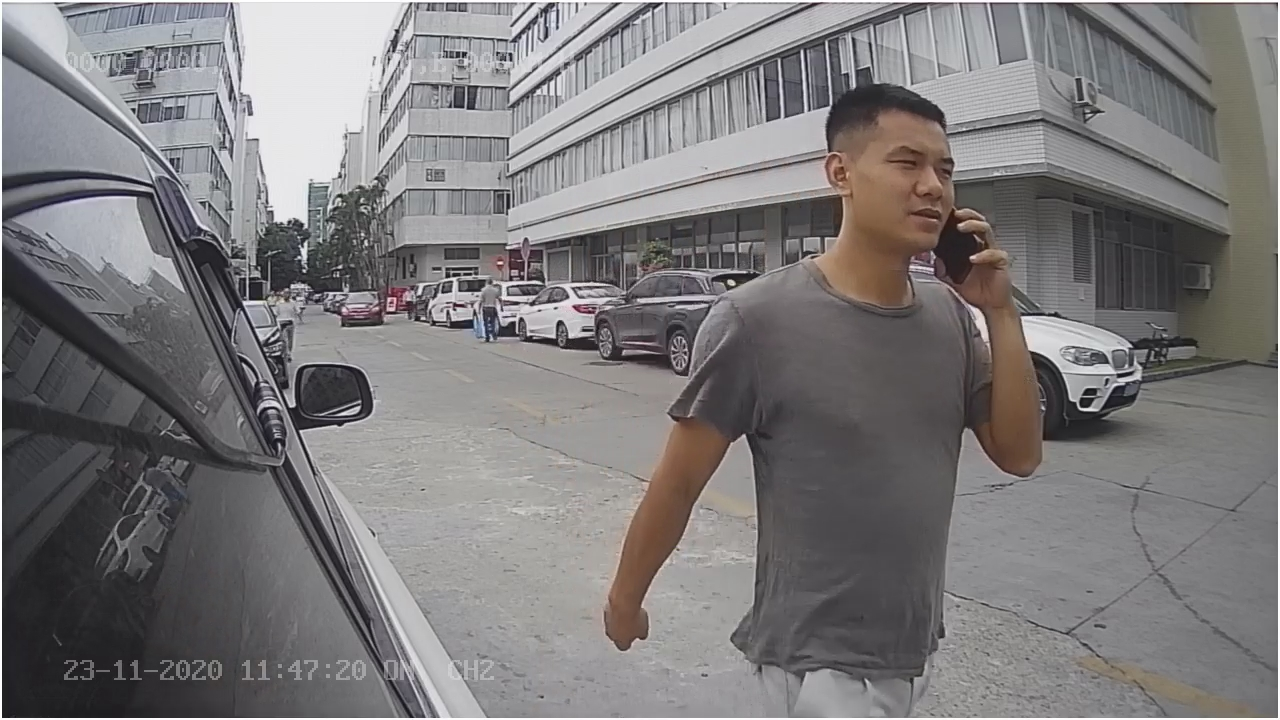person: (590, 45, 1047, 661)
